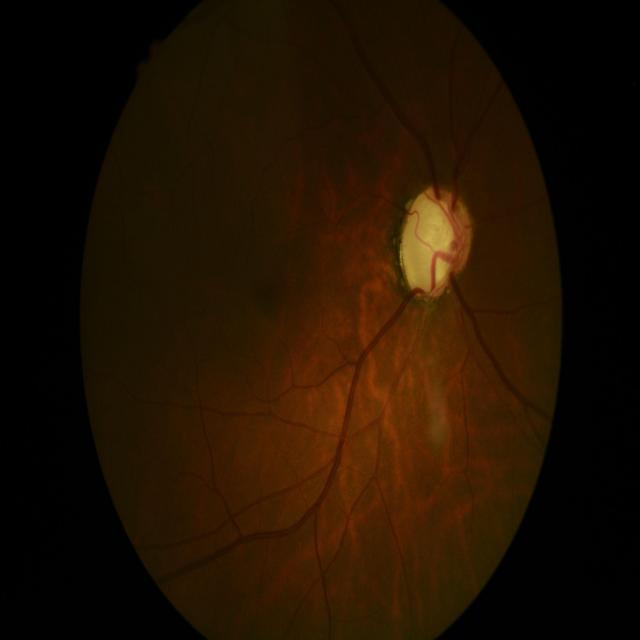cup: (403, 200, 463, 294)
disk: (400, 185, 473, 302)
